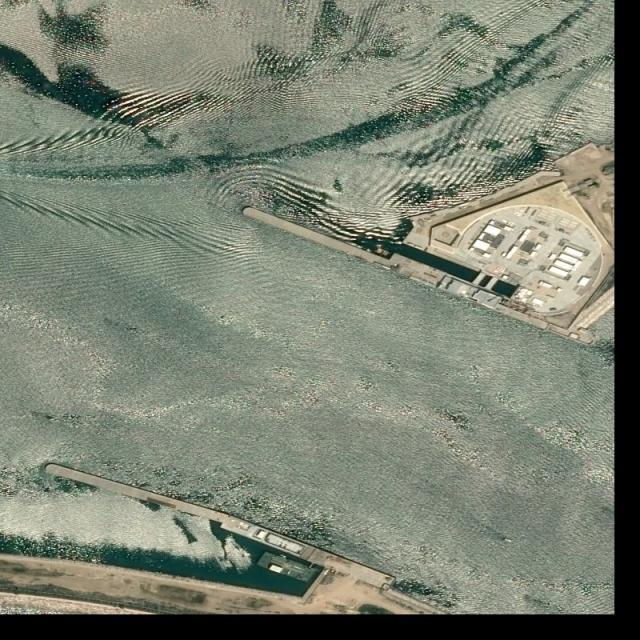ship: (504, 538, 513, 544)
